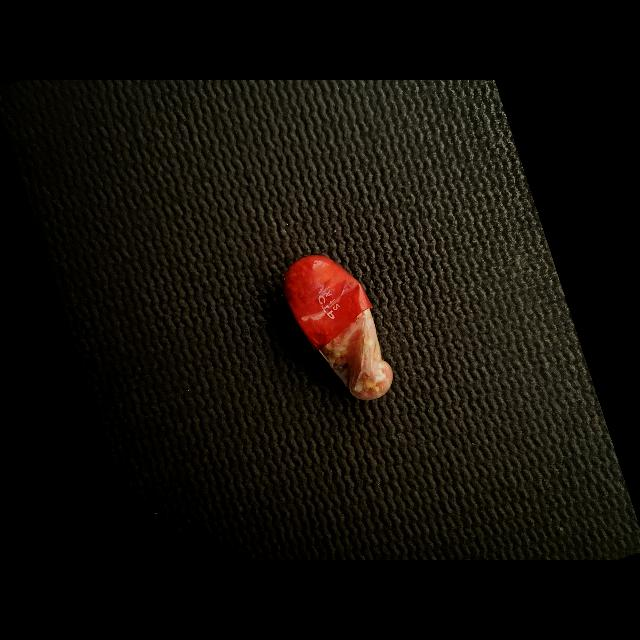Defective Capsule: (284, 255, 393, 400)
